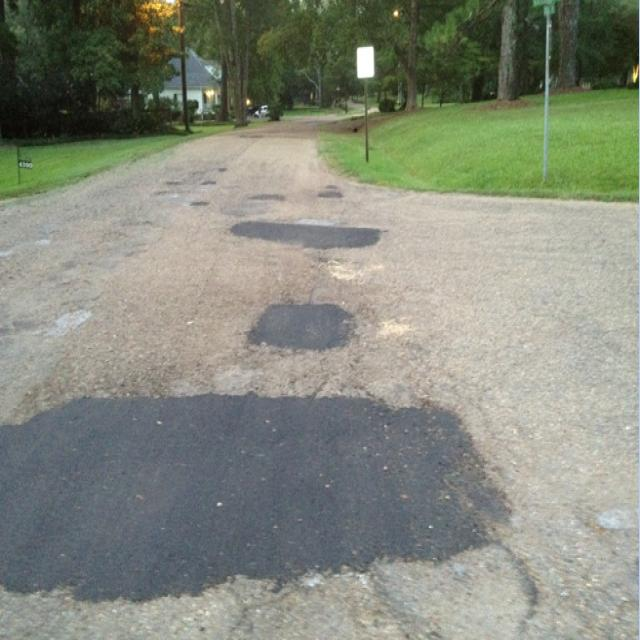pothole1: (54, 296, 98, 336)
